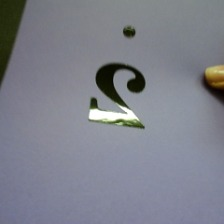violet2: (85, 21, 152, 132)
